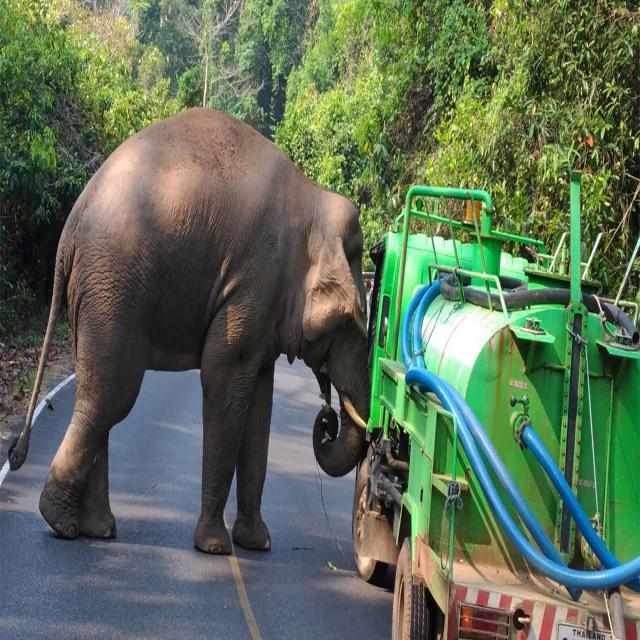Elephant: (8, 99, 393, 587)
